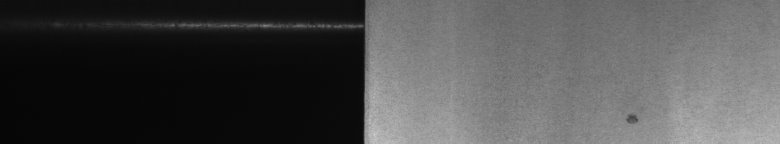fi: (624, 108, 640, 132)
